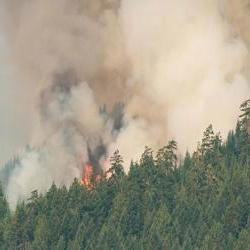fire: (73, 152, 111, 195)
